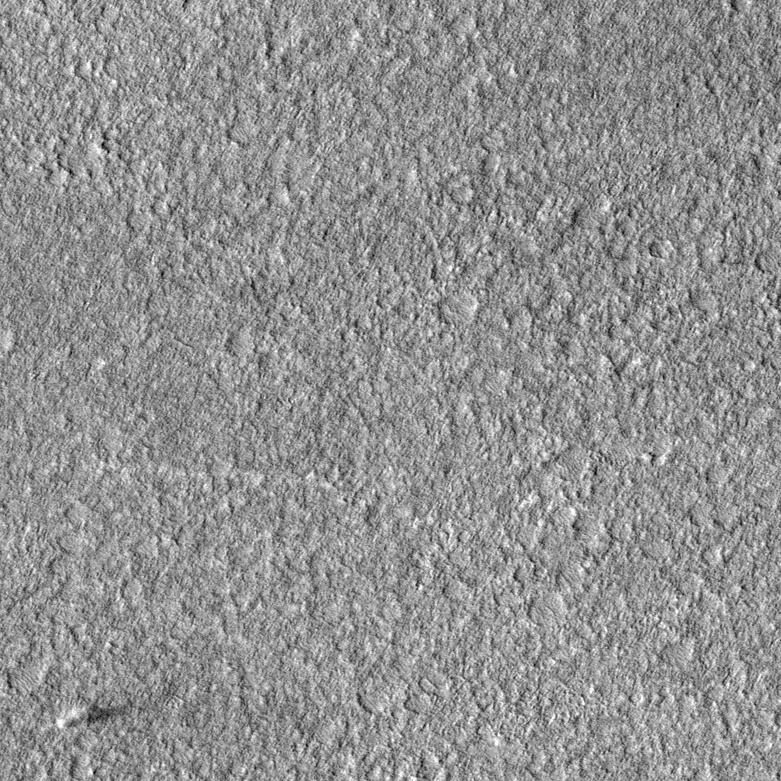dust_devil: (53, 702, 130, 730)
